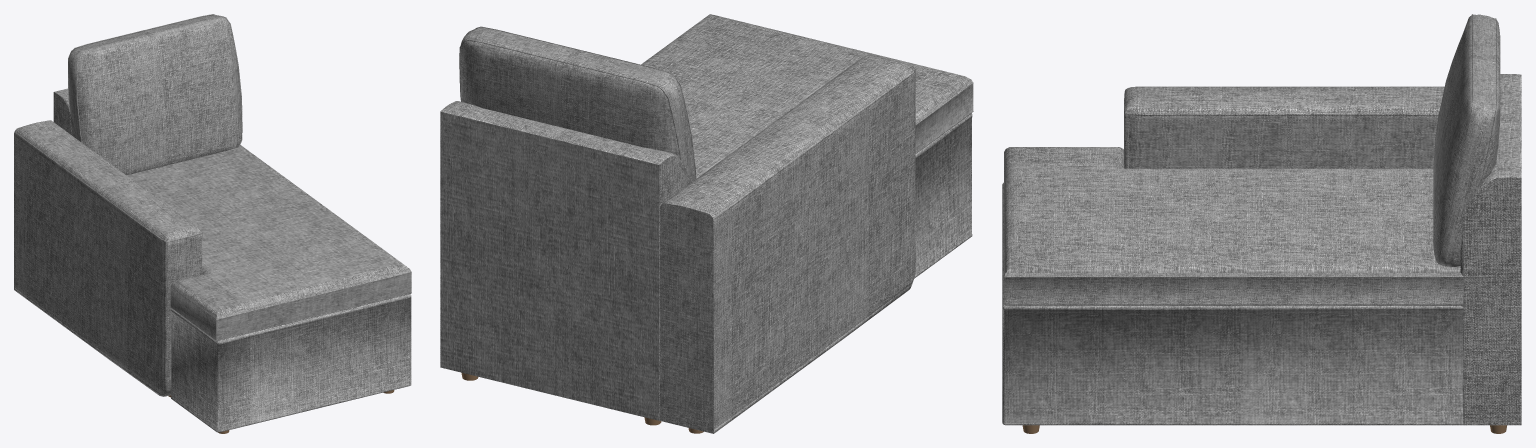
Rendered from chaiseR.gltf.
3 views of the same model, side by side, from view 1: azimuth 30°, elevation 25°; view 2: azimuth 150°, elevation 25°; view 3: azimuth 270°, elevation 25° (orthographic). The views are drawn at different scales.
Parts seen in each view (by area): view 1: c_armrestR, ChaiseSeatR, BottomR, pillow, back.1, Sweep; view 2: c_armrestR, back.1, ChaiseSeatR, pillow, BottomR, Sweep; view 3: ChaiseSeatR, BottomR, c_armrestR, back.1, pillow, Sweep.
Boxes of the visible parts, bbox=[...] form: c_armrestR: bbox=[14, 120, 202, 396]; ChaiseSeatR: bbox=[127, 145, 411, 341]; BottomR: bbox=[171, 294, 411, 432]; pillow: bbox=[68, 14, 241, 175]; back.1: bbox=[53, 88, 76, 138]; Sweep: bbox=[68, 14, 242, 146]; c_armrestR: bbox=[660, 55, 915, 433]; back.1: bbox=[440, 101, 689, 420]; ChaiseSeatR: bbox=[641, 14, 973, 178]; pillow: bbox=[460, 27, 695, 183]; BottomR: bbox=[914, 113, 972, 278]; Sweep: bbox=[459, 26, 696, 184]; ChaiseSeatR: bbox=[1004, 147, 1488, 305]; BottomR: bbox=[1002, 182, 1463, 425]; c_armrestR: bbox=[1124, 86, 1444, 168]; back.1: bbox=[1460, 74, 1521, 425]; pillow: bbox=[1433, 14, 1500, 266]; Sweep: bbox=[1438, 14, 1496, 263].
Bounding box in the file's own units: 76.23 × 90.82 × 130.
2 materials, 1 textured.
